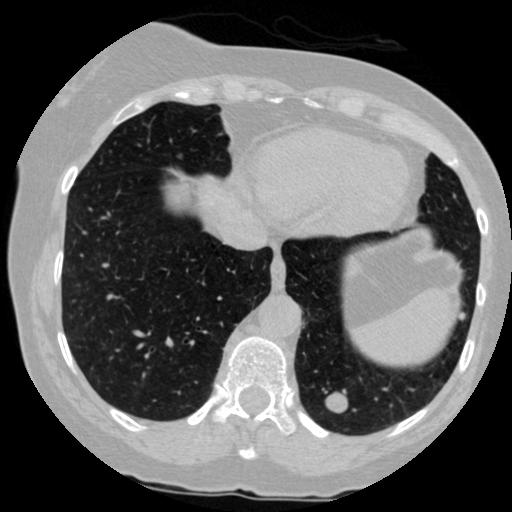nodule: (456, 310, 468, 322)
